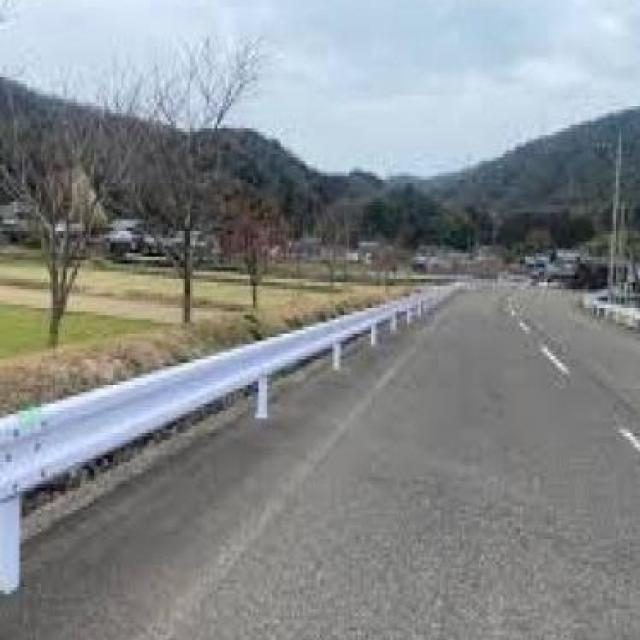Guard rail: (0, 282, 441, 633)
